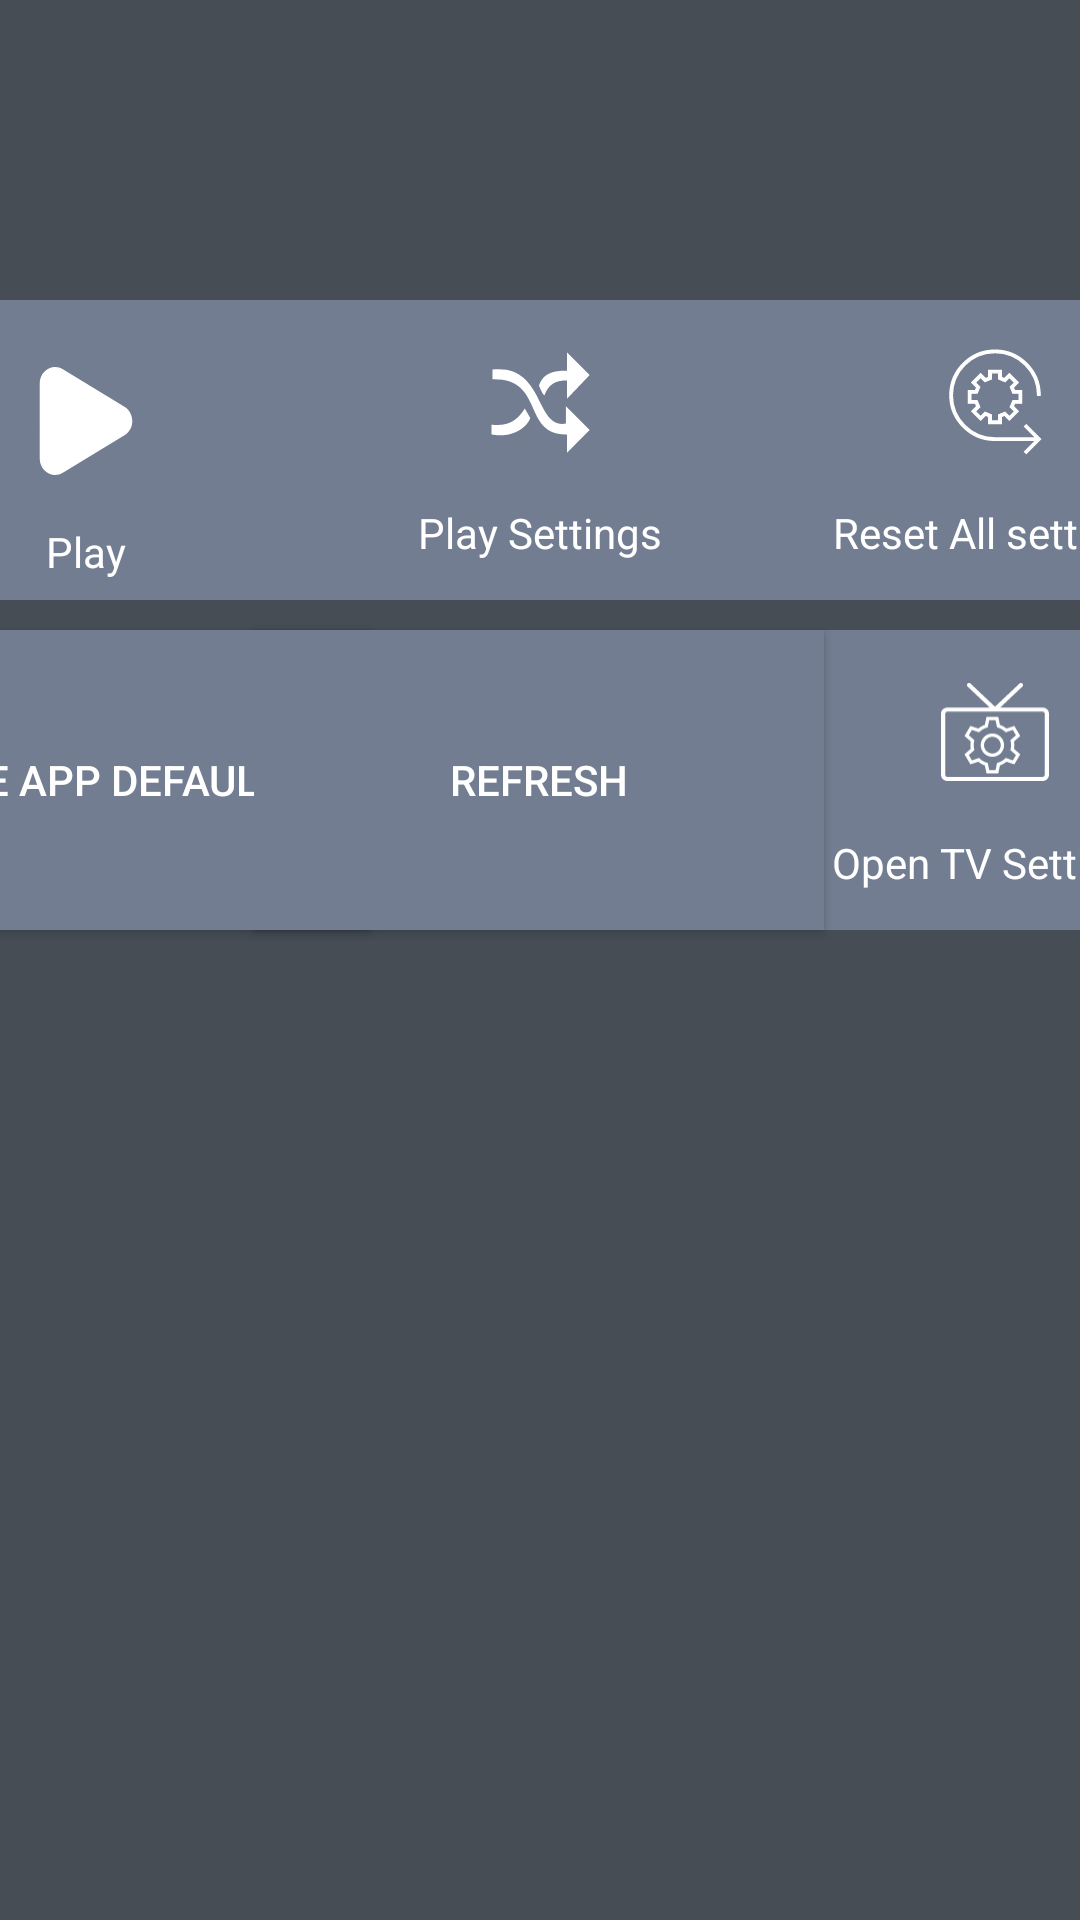

Where to tap for icons on this 1080 x 1920 app screen, as (x=x, y=y):
playmode shuffle: (x=540, y=402)
